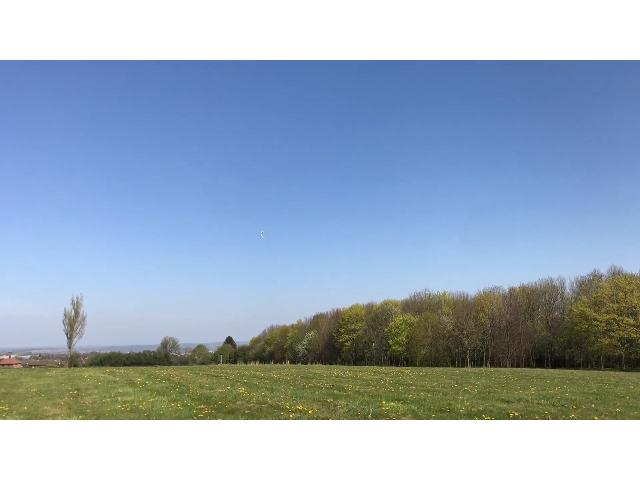Anti-Drone: (249, 225, 281, 251)
